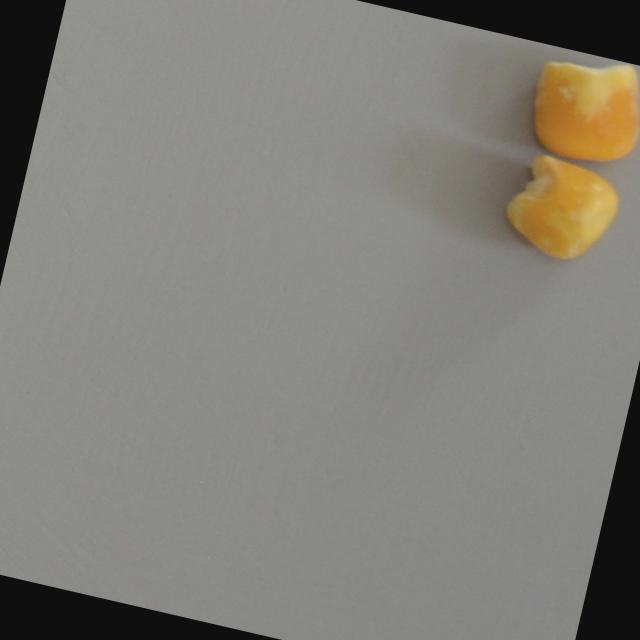no_canjicado: (515, 42, 640, 170)
no_desgerminado: (491, 143, 627, 271)
